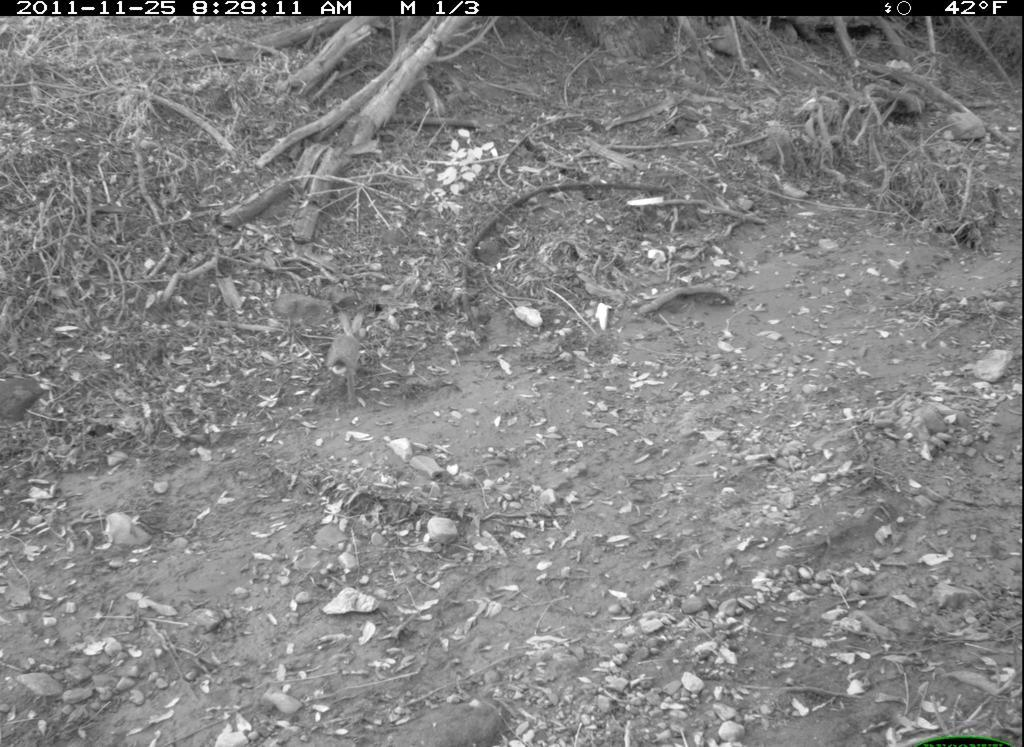rabbit: (321, 304, 376, 417)
